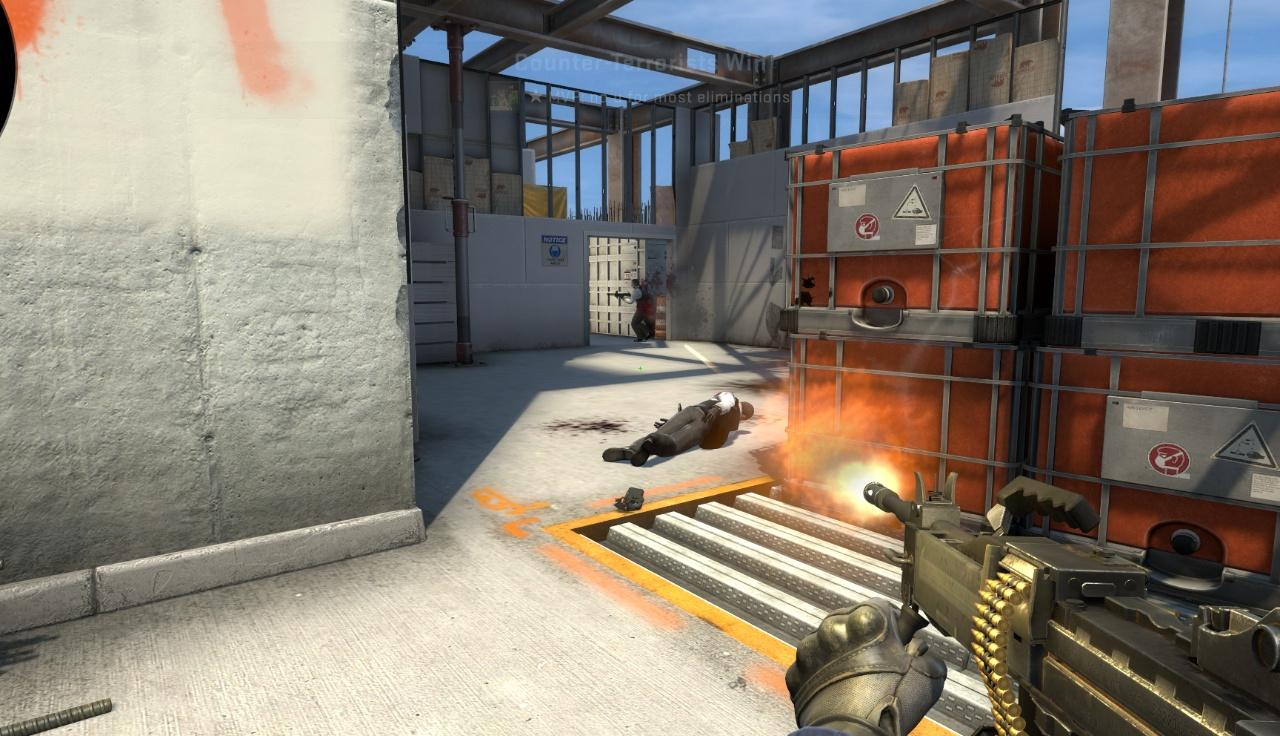rifle: (850, 466, 1280, 735)
tt: (619, 279, 653, 342)
tthead: (631, 279, 639, 289)
